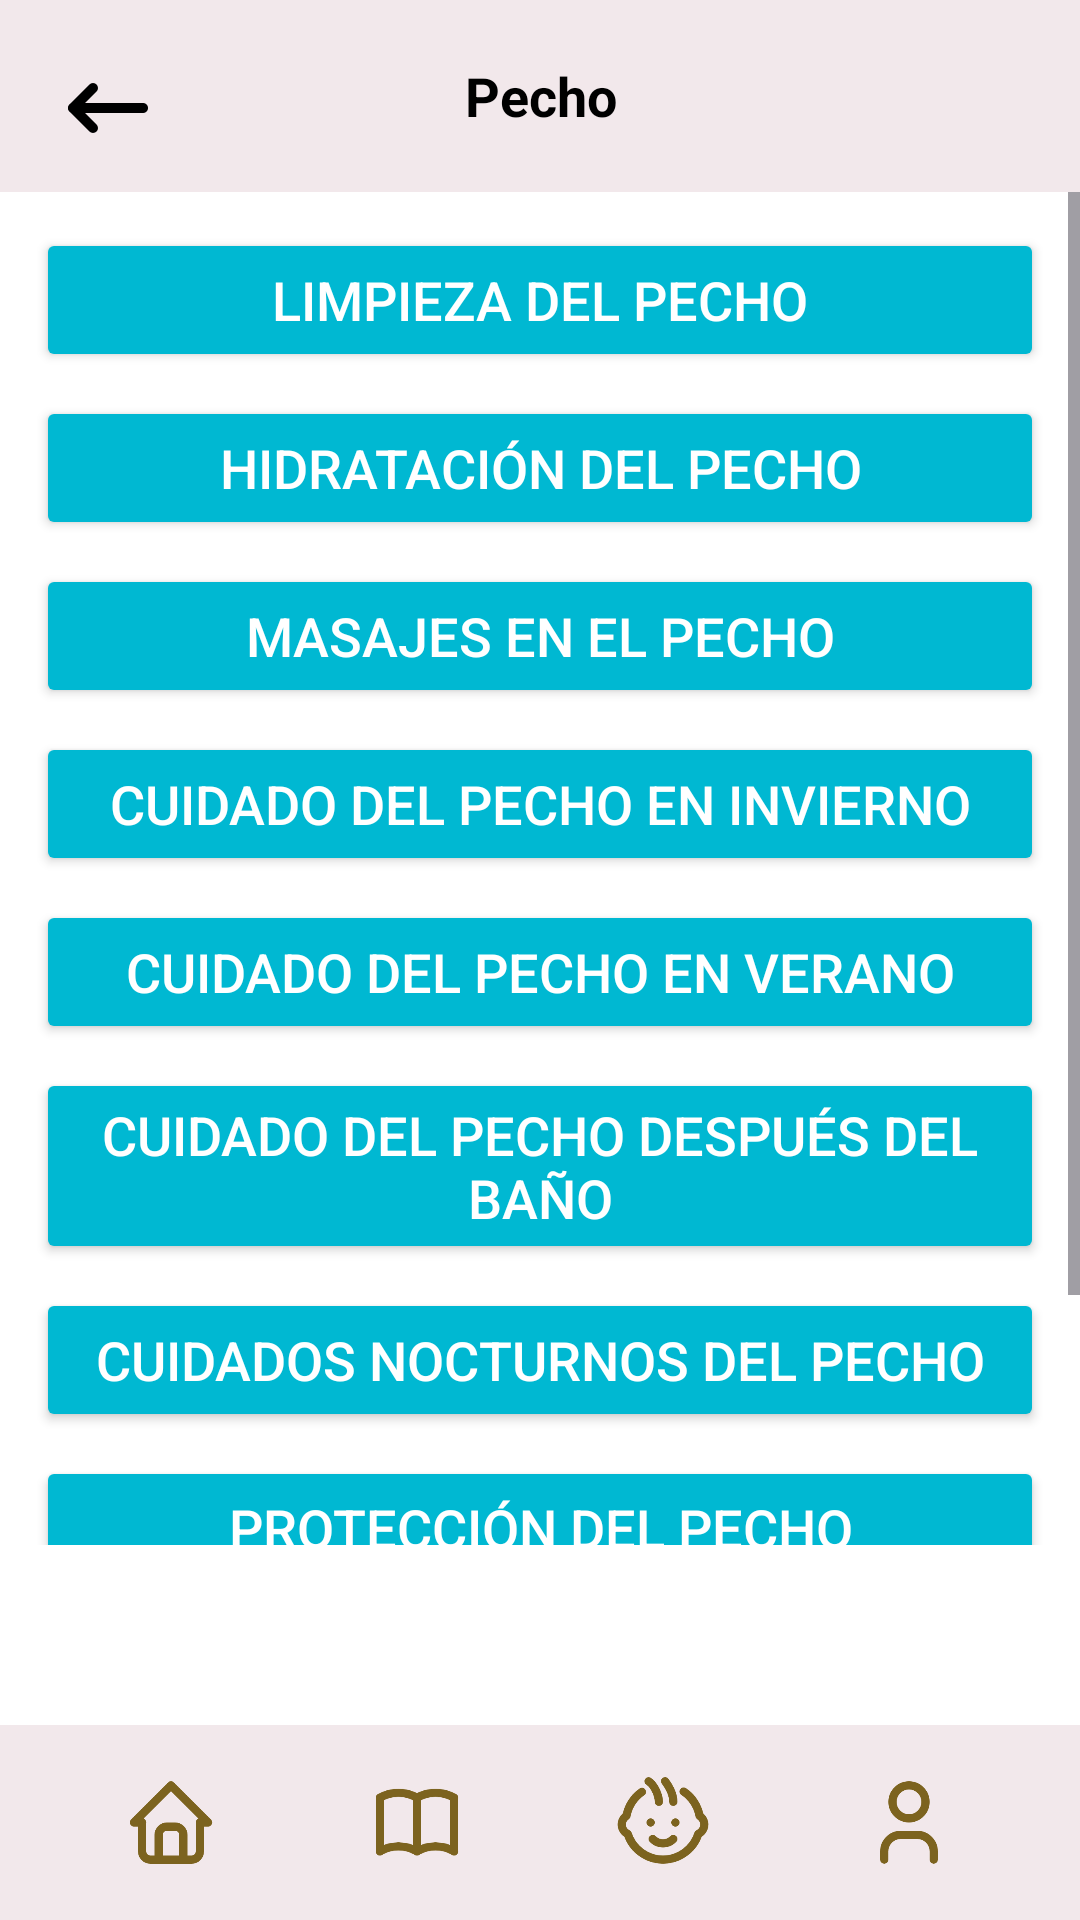

Locate icon controls on the screen. Image size 1080px x 1920px, boxes as (x1, y1, x2, y2).
book: (376, 1789, 458, 1856)
home: (130, 1781, 212, 1864)
moodboy: (617, 1777, 709, 1864)
personaa: (880, 1781, 938, 1864)
